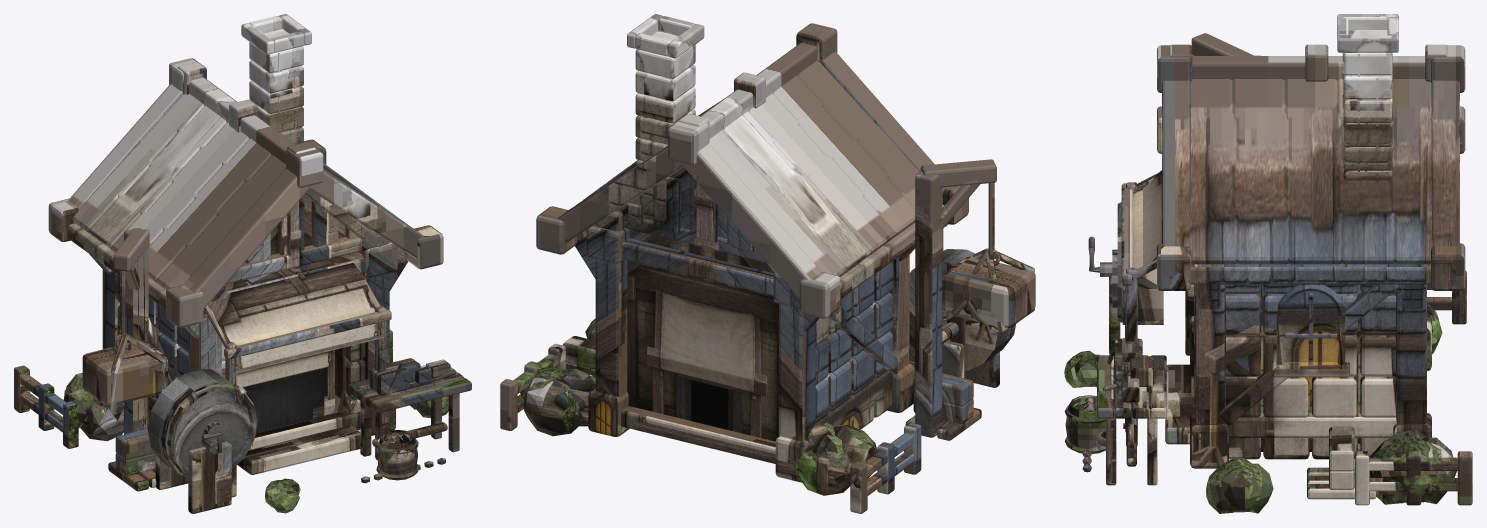
File: stone_cutter.glb
The picture shows the model from 3 angles, left to right: view 1: azimuth 30°, elevation 25°; view 2: azimuth 150°, elevation 25°; view 3: azimuth 270°, elevation 25°; orthographic projection. The views are drawn at different scales.
Parts seen in each view (by area): view 1: Linen work canopy, Circular grindstone, Workshop shadow opening, Carved roof verge, Dressed limestone.004, Workshop recessed floor, Carved roof verge.002, Grindstone trestle, Carved roof verge.001, Hoist upright, Gable tie beam, Ridge timber (+65 smaller); view 2: Cottage walls, Hoist upright, Carved roof verge.001, Dressed limestone.004, Corner upright.003, Corner upright.001, Wall cross beam.001, Carved roof verge.003, Wall cross beam.003, Circular grindstone, Ridge timber, Carved roof verge (+62 smaller); view 3: Roof eave.001, Carved roof verge.002, Carved roof verge.003, Corner upright.003, Corner upright.002, Ridge timber, Side wall lower tie.001, Warm arched window, Soft edged blue roof tile.038, Soft edged blue roof tile.037, Soft edged blue roof tile.039, Soft edged blue roof tile.036 (+82 smaller).
Boxes of the visible parts, <box> form: Linen work canopy: <box>207,263,384,373</box>; Circular grindstone: <box>147,369,257,477</box>; Workshop shadow opening: <box>236,350,334,432</box>; Carved roof verge: <box>183,168,310,308</box>; Dressed limestone.004: <box>82,340,167,405</box>; Workshop recessed floor: <box>237,425,360,474</box>; Carved roof verge.002: <box>309,170,423,258</box>; Grindstone trestle: <box>188,441,231,513</box>; Carved roof verge.001: <box>68,84,183,208</box>; Hoist upright: <box>124,228,148,434</box>; Gable tie beam: <box>226,235,388,284</box>; Ridge timber: <box>189,77,295,163</box>; Cottage walls: <box>627,229,778,441</box>; Hoist upright: <box>915,171,942,437</box>; Carved roof verge.001: <box>683,143,821,298</box>; Dressed limestone.004: <box>942,256,1035,328</box>; Corner upright.003: <box>595,210,627,396</box>; Corner upright.001: <box>779,303,815,440</box>; Wall cross beam.001: <box>621,405,775,463</box>; Carved roof verge.003: <box>558,146,683,242</box>; Wall cross beam.003: <box>622,238,774,295</box>; Circular grindstone: <box>909,249,1015,370</box>; Ridge timber: <box>674,43,816,151</box>; Carved roof verge: <box>821,51,934,171</box>; Roof eave.001: <box>1191,263,1430,284</box>; Carved roof verge.002: <box>1162,80,1190,246</box>; Carved roof verge.003: <box>1431,80,1459,246</box>; Corner upright.003: <box>1396,284,1426,424</box>; Corner upright.002: <box>1195,284,1225,424</box>; Ridge timber: <box>1192,56,1425,80</box>; Side wall lower tie.001: <box>1225,413,1396,437</box>; Warm arched window: <box>1283,291,1338,361</box>; Soft edged blue roof tile.038: <box>1288,206,1341,264</box>; Soft edged blue roof tile.037: <box>1236,206,1288,264</box>; Soft edged blue roof tile.039: <box>1341,206,1393,264</box>; Soft edged blue roof tile.036: <box>1190,206,1236,264</box>.
Bounding box in the file's own units: 4.49 × 4.2 × 3.58.
Materials: 5 (5 with a texture image).
